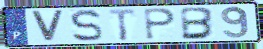9: (219, 6, 251, 40)
B: (180, 6, 217, 41)
P: (142, 7, 177, 41)
S: (68, 8, 105, 43)
T: (108, 8, 138, 42)
V: (29, 10, 66, 44)
